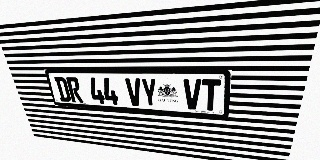4: (88, 77, 106, 104), (101, 78, 119, 105)
D: (54, 77, 72, 102)
R: (66, 77, 84, 103)
T: (201, 79, 221, 111)
V: (183, 79, 201, 110), (125, 78, 143, 106)
Y: (140, 78, 158, 107)
